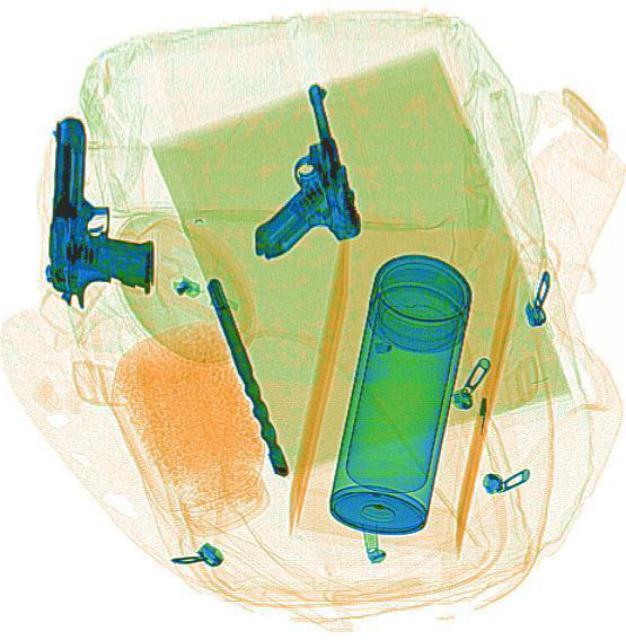Gun: (210, 80, 366, 260), (43, 114, 160, 306)
